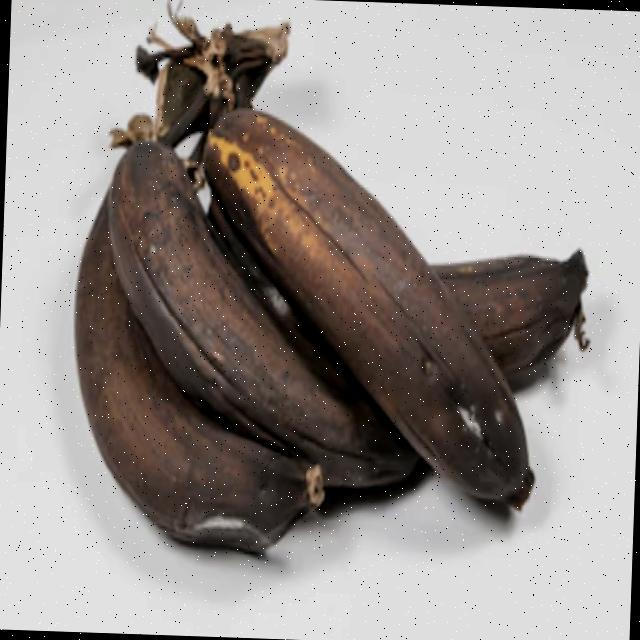rotten banana: (62, 0, 595, 640)
